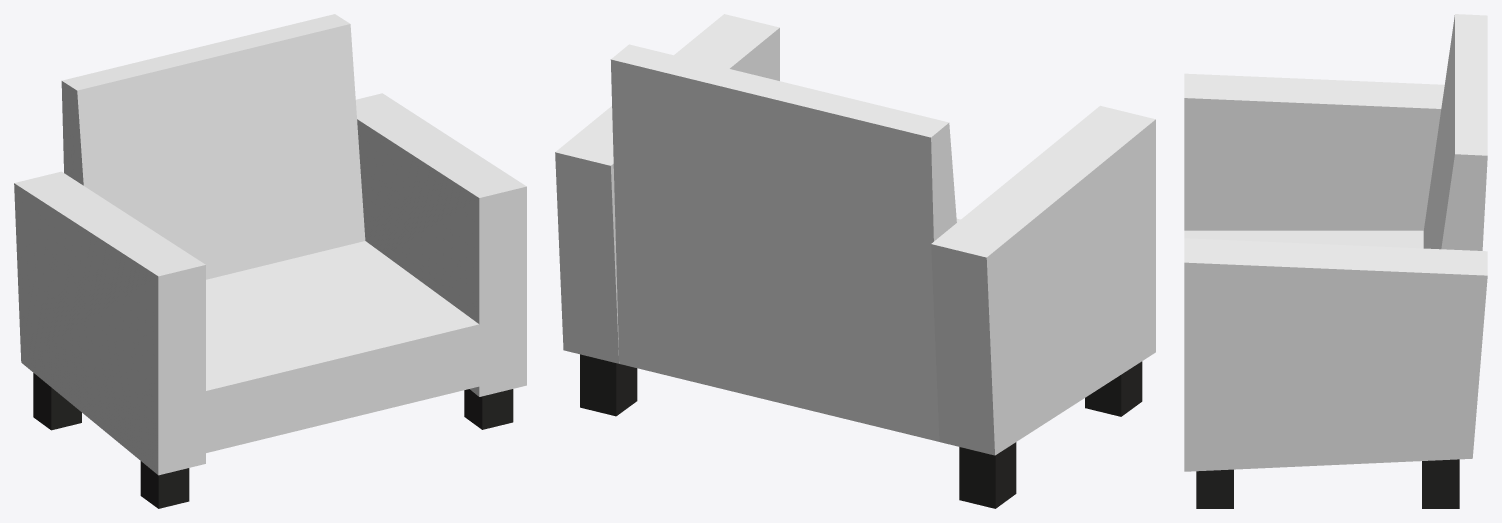
File: Couch_1A.fbx
3 renders of one model, left to right at view 1: azimuth 30°, elevation 25°; view 2: azimuth 150°, elevation 25°; view 3: azimuth 270°, elevation 25°, orthographic. The views are drawn at different scales.
Visible parts, largest first — view 1: polySurface1528; view 2: polySurface1528; view 3: polySurface1528.
Boxes of the visible parts, box(x1,y1,x2,y2) form: polySurface1528: box(14, 14, 526, 508); polySurface1528: box(555, 14, 1155, 508); polySurface1528: box(1184, 14, 1487, 508).
Bounding box in the file's own units: 1.55 × 1.28 × 1.05.
1 material, 1 textured.
